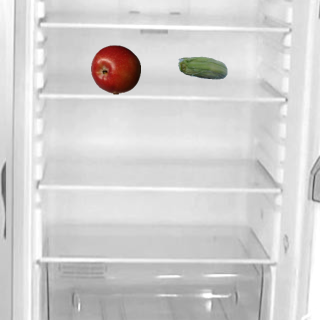Apple Braeburn: (90, 44, 140, 94)
Corn Husk: (177, 44, 227, 94)
